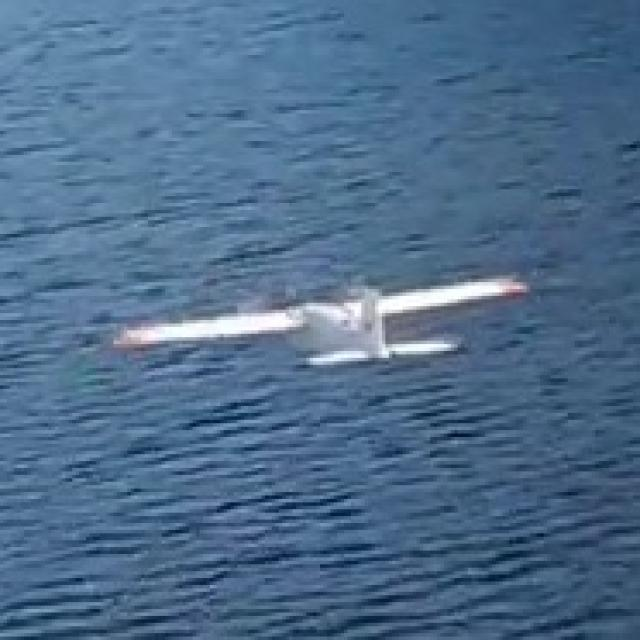iha: (103, 302, 537, 338)
